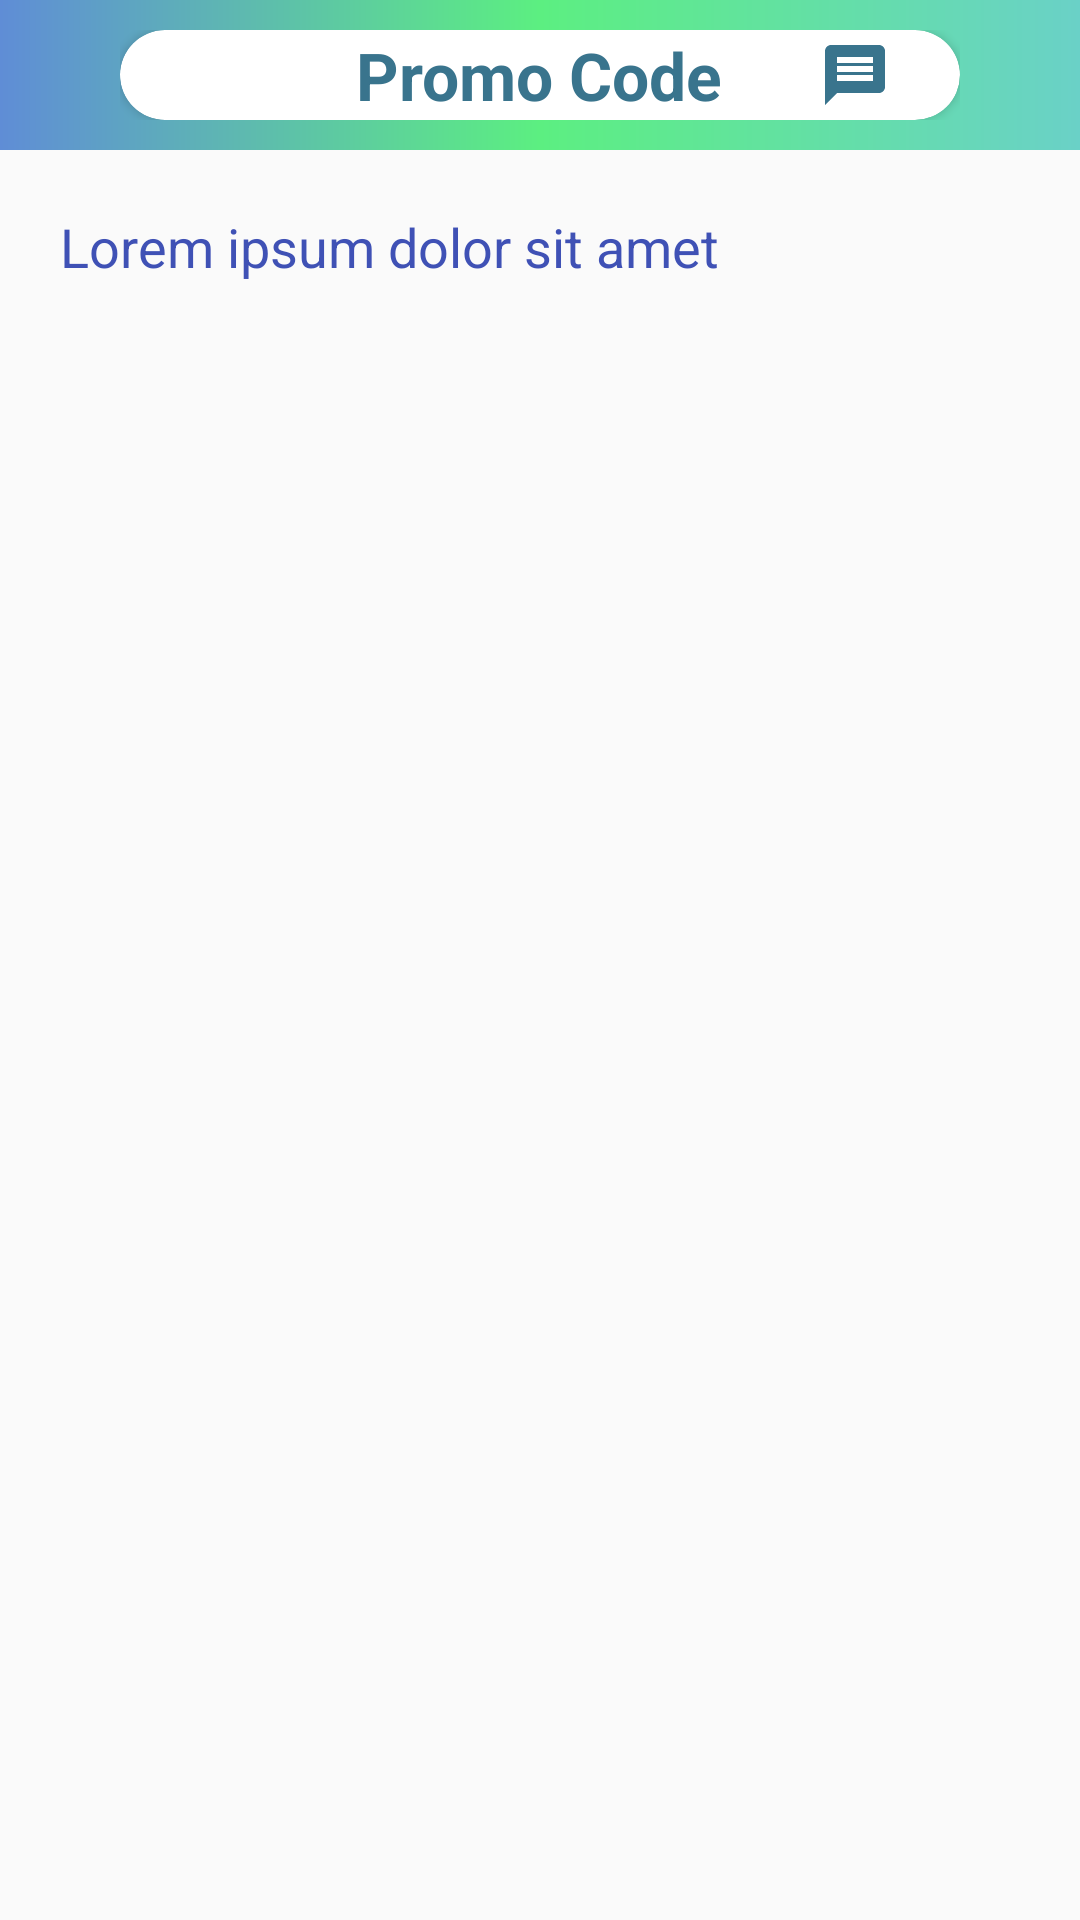

Icons on this 1080w x 1920h Android screen, each with its box as (x1, y1, x2, y2):
message: (825, 45, 885, 105)
